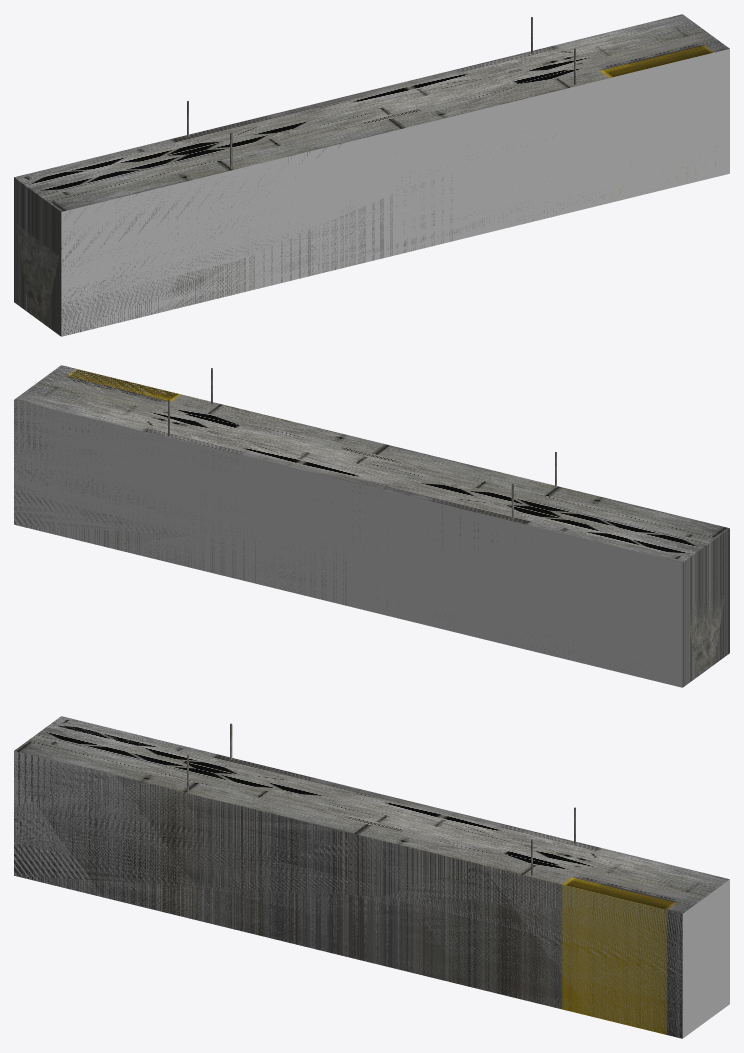
Rendered from SciFi_duct_straight.DAE.
3 views of the same model, one above another, from view 1: azimuth 30°, elevation 25°; view 2: azimuth 150°, elevation 25°; view 3: azimuth 330°, elevation 25° (orthographic).
Parts seen in each view (by area): view 1: bounds, colbox-01, hvac_duct_straight; view 2: bounds, colbox-01, hvac_duct_straight; view 3: colbox-01, bounds.
Boxes of the visible parts, x1,y1,x2,y2 form: bounds: (16,22,729,336); colbox-01: (14,14,729,336); hvac_duct_straight: (16,17,575,323); bounds: (14,365,682,687); colbox-01: (14,365,729,687); hvac_duct_straight: (168,368,724,674); colbox-01: (14,716,729,1038); bounds: (14,716,729,1038).
Size of the model in its own units: 700 by 85.85 by 160.
